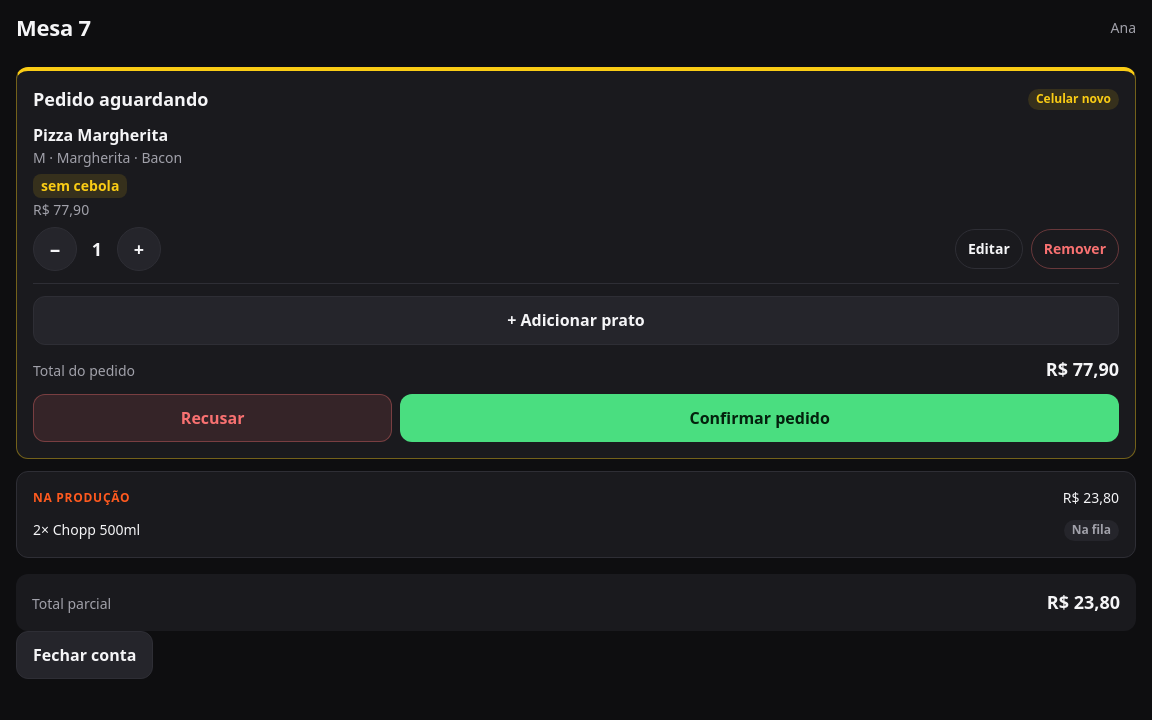
it: Tela da mesa › menos até zero remove o item
The image size is (1152, 720).
Expected: the heading "Mesa 7" is shown, [16,12,91,43]
Click the button named "Diminuir Pizza Margherita" at [55, 249], box [33,227,77,271]
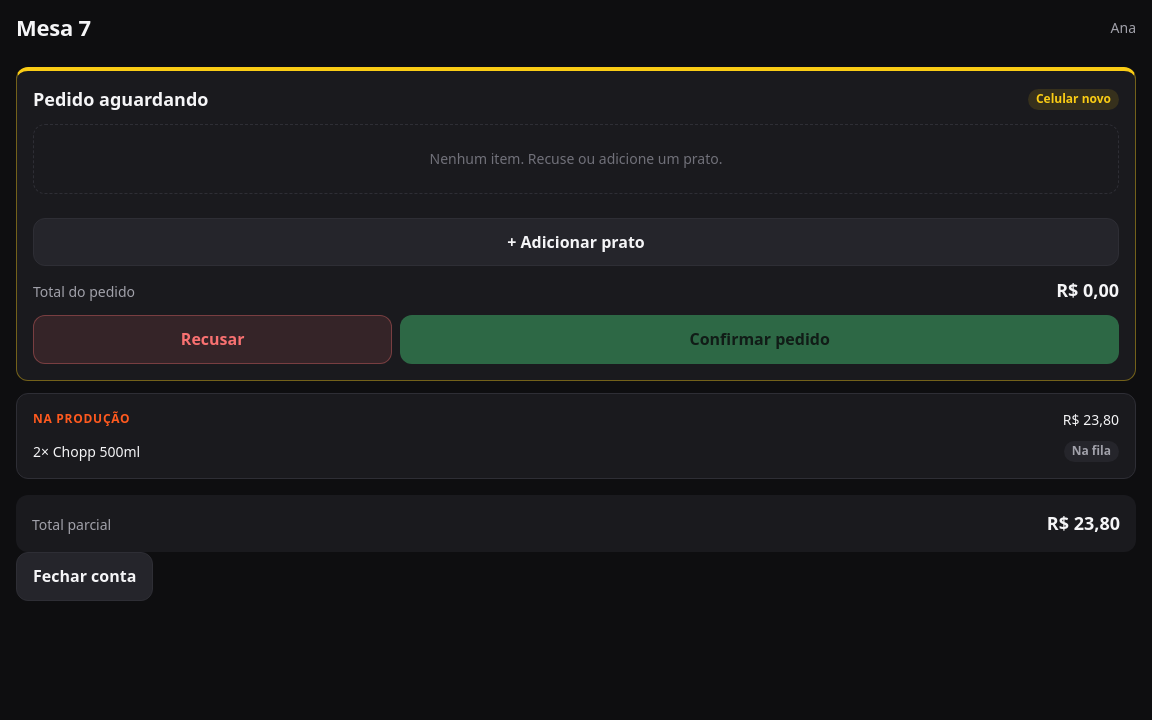
Expected: the text "Nenhum item. Recuse ou adicione um prato." is shown, [33,124,1119,194]
